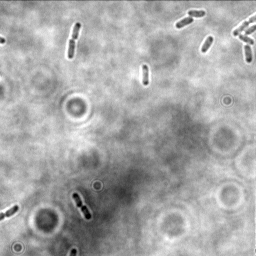Dividing: (71, 192, 93, 221), (66, 21, 82, 60)
Microcolony: (231, 12, 255, 63)
Rod: (199, 34, 215, 53), (174, 16, 194, 29), (140, 63, 150, 86), (187, 9, 206, 18)
